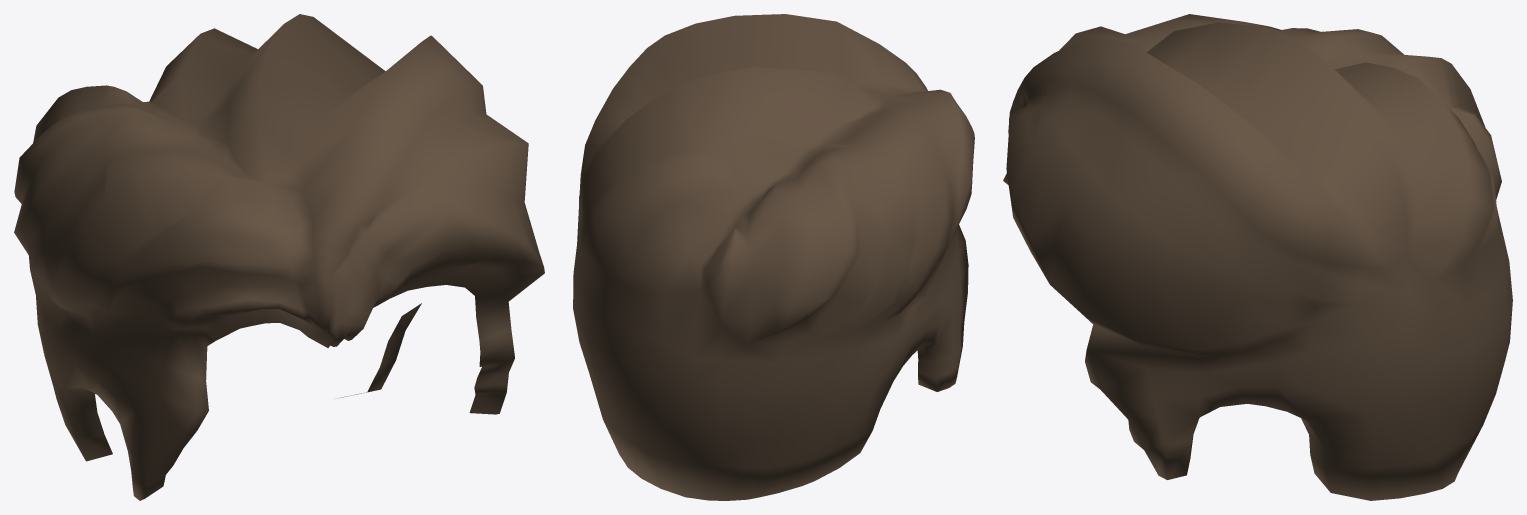
The model's file is hair_simpleparted.glb.
The picture shows the model from 3 angles, left to right: view 1: azimuth 30°, elevation 25°; view 2: azimuth 150°, elevation 25°; view 3: azimuth 270°, elevation 25°; orthographic projection. The views are drawn at different scales.
Parts seen in each view (by area): view 1: Hair_SimpleParted; view 2: Hair_SimpleParted; view 3: Hair_SimpleParted.
Boxes of the visible parts, x1,y1,x2,y2 form: Hair_SimpleParted: (14, 14, 544, 500); Hair_SimpleParted: (573, 14, 974, 500); Hair_SimpleParted: (1003, 14, 1512, 500).
Size of the model in its own units: 0.1754 by 0.1792 by 0.1869.
